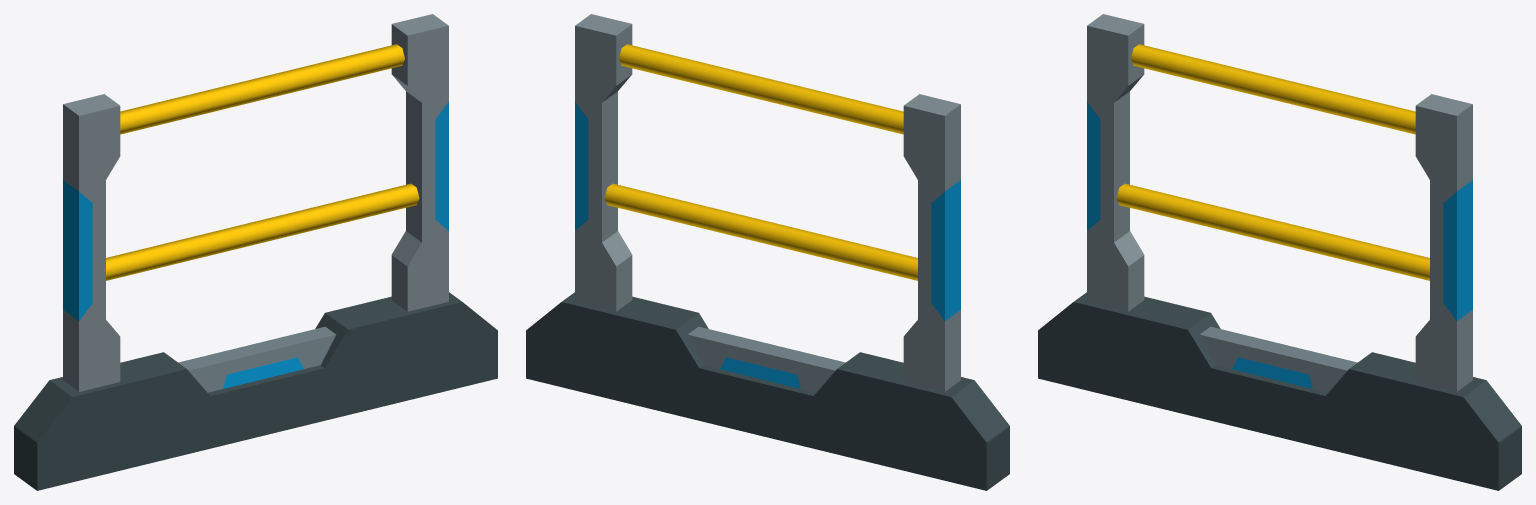
Rendered from Fence_type_C_010.fbx.
The picture shows the model from 3 angles, left to right: view 1: azimuth 30°, elevation 25°; view 2: azimuth 150°, elevation 25°; view 3: azimuth 330°, elevation 25°; orthographic projection.
Parts seen in each view (by area): view 1: Fence_type_C_010; view 2: Fence_type_C_010; view 3: Fence_type_C_010.
Boxes of the visible parts, box(x1,y1,x2,y2) form: Fence_type_C_010: box(14, 14, 497, 490); Fence_type_C_010: box(526, 14, 1009, 490); Fence_type_C_010: box(1038, 14, 1521, 490).
Size of the model in its own units: 190 by 16.53 by 142.
